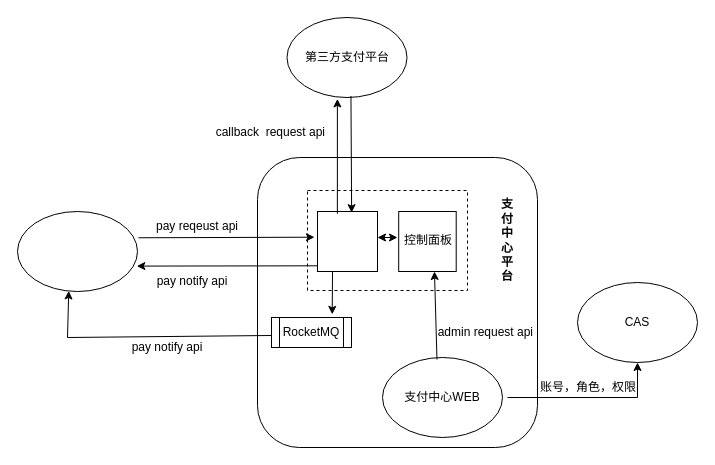
This 715x465 diagram has some shape labels left out. Each missing label, with the centre of its shape:
兴盛内部系统: the point at 77,251
数据中心: the point at 347,241
